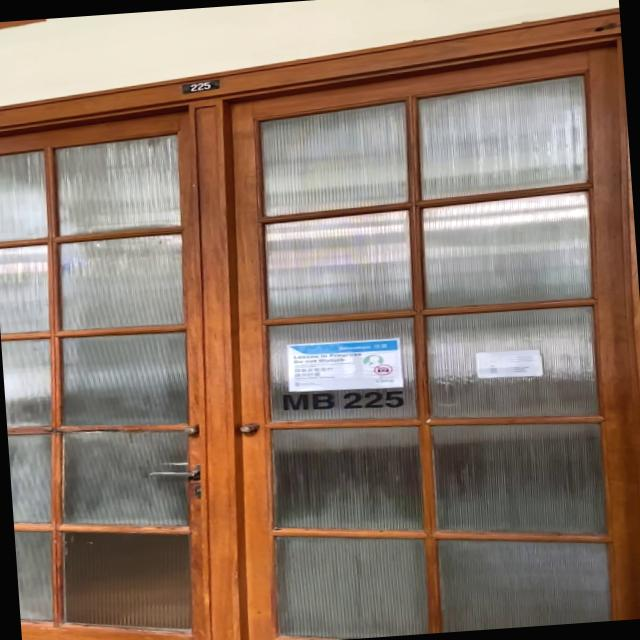room225: (178, 78, 222, 94)
room225Window: (279, 384, 409, 416)
